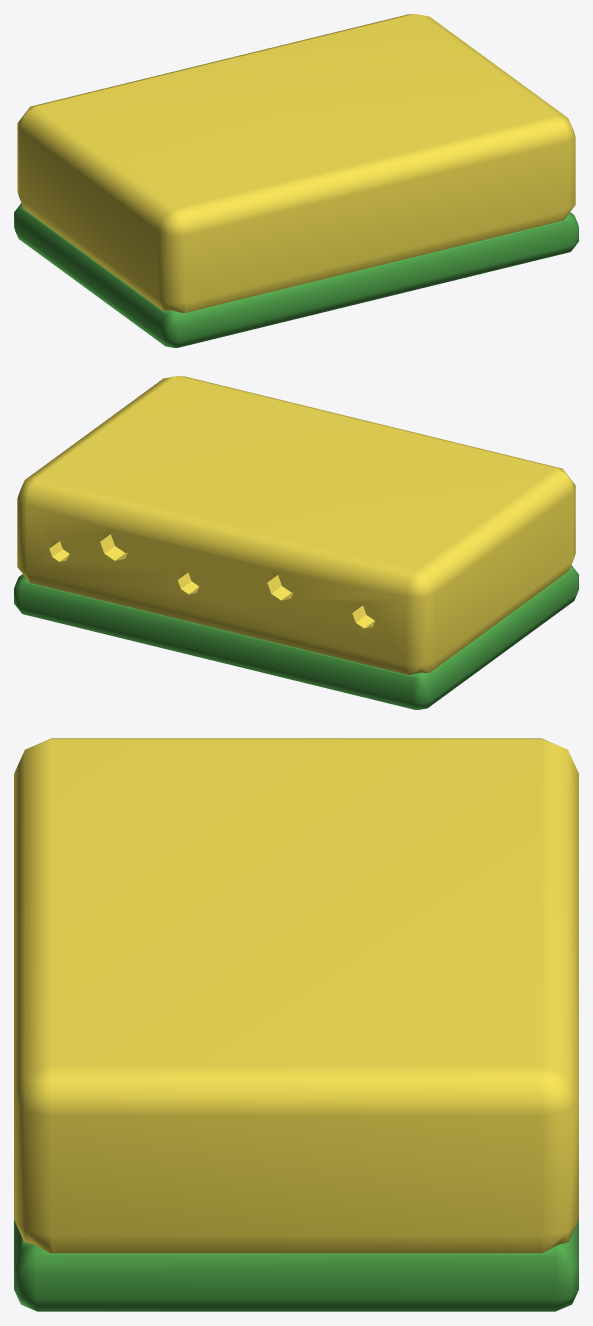
File: sponge.glb
3 renders of one model, top to bottom at view 1: azimuth 30°, elevation 25°; view 2: azimuth 150°, elevation 25°; view 3: azimuth 270°, elevation 25°, orthographic. The views are drawn at different scales.
Visible parts, largest first — view 1: sponge; view 2: sponge; view 3: sponge.
Part boxes in pixels (x1,y1,x2,y2): sponge: [14, 14, 578, 347]; sponge: [14, 376, 578, 709]; sponge: [14, 738, 578, 1311].
Bounding box in the file's own units: 0.09 × 0.028 × 0.06.
